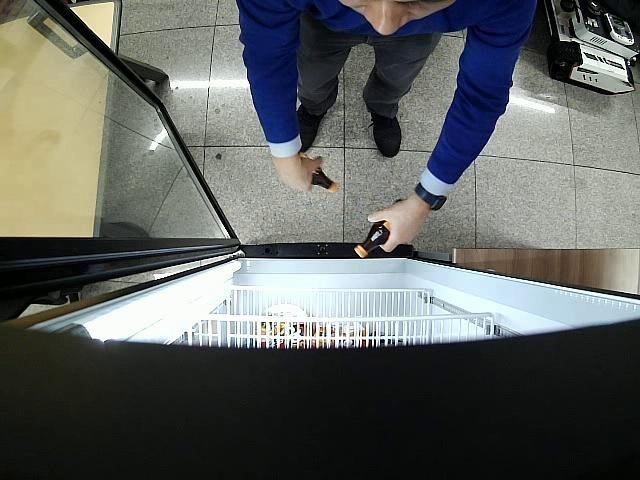17_vita500: (355, 220, 392, 258), (300, 166, 338, 192)
